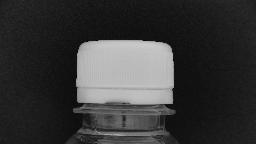Good Cap: (64, 35, 184, 119)
